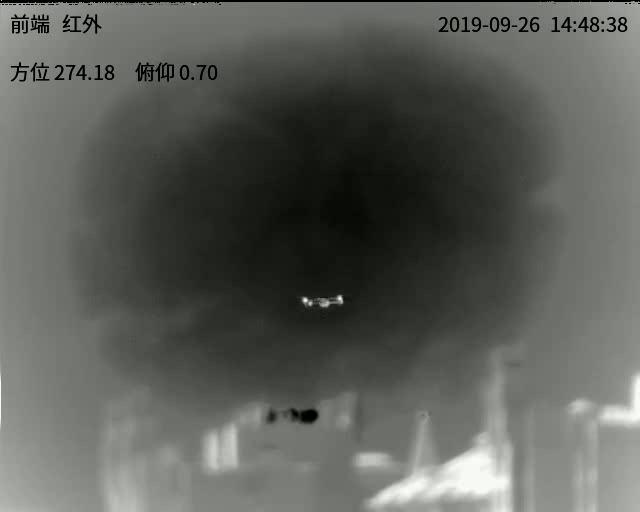DRONE: (299, 293, 346, 309)
